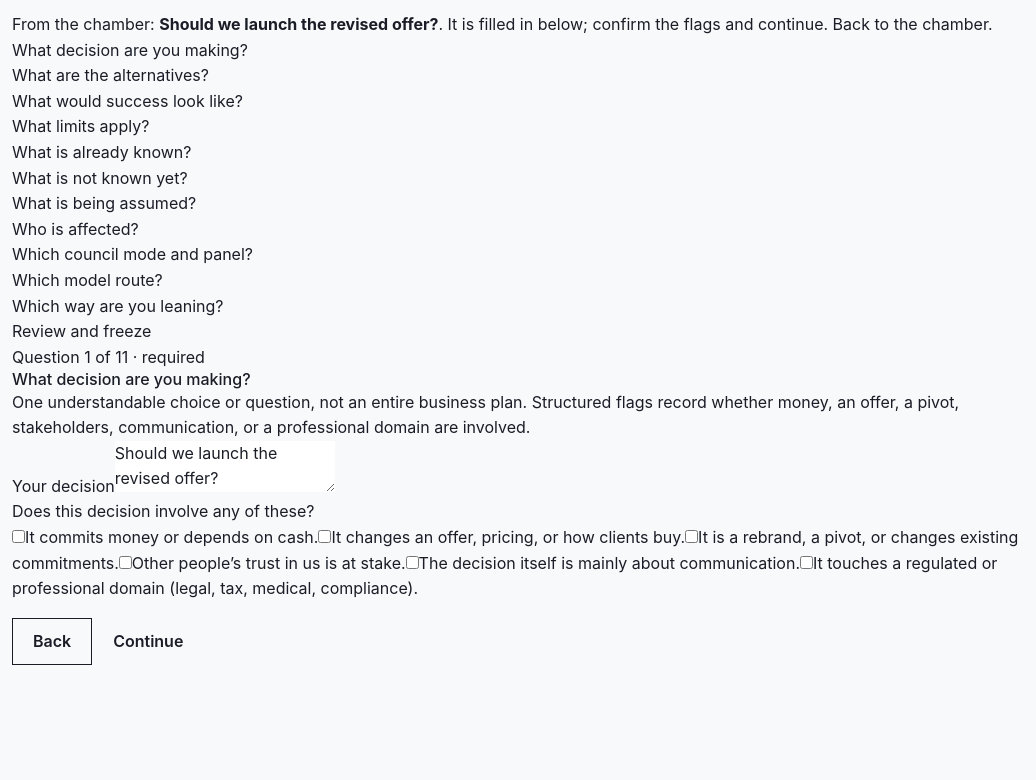
Test: CTR-104 chamber question reaches the intake without re-asking › seeds the decision text so the conversation starts at the question just asked
expect the text with test id "chamber-question-echo" reads "Should we launch the revised offer?": met, box [159,14,438,34]
expect the element with test id "intake-step-decision" is shown: met, box [12,345,1035,665]
Click the button with test id "intake-continue". click: (148, 642)
box: [92,618,204,665]
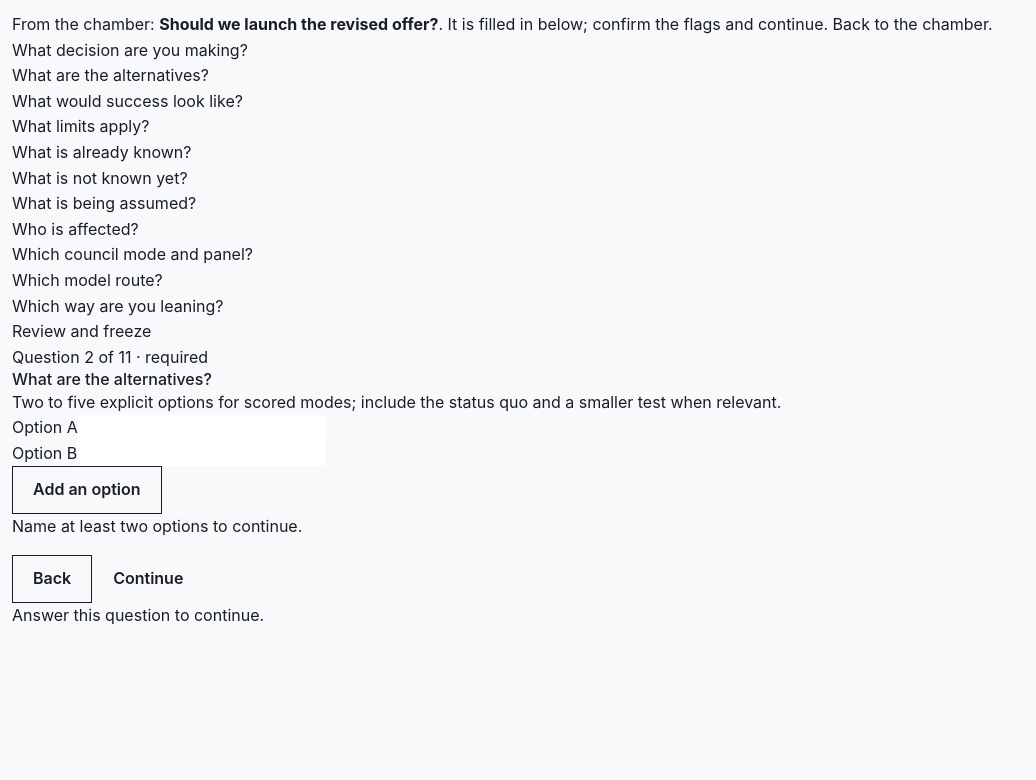
expect the text with test id "chamber-question-echo" reads "Should we launch the revised offer?": met, box [159,14,438,34]
expect the element with test id "intake-step-options" is shown: met, box [12,347,781,625]
